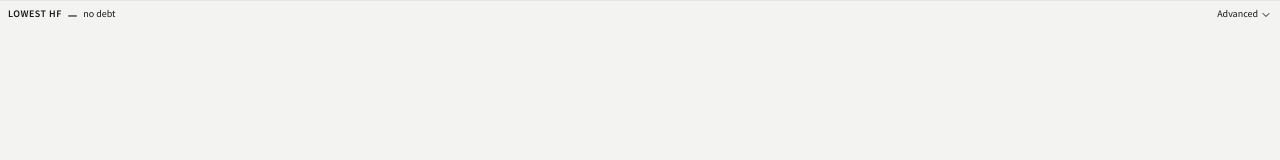
Test case: PortfolioSummaryBar — Advanced section typography (AAV-1304) › Borrow capacity values use font-bold like the other summary values (E6)
What coordinates should you click on to do the following:
click the button with test id "portfolio-advanced-toggle"
I would click on:
 (1245, 15)
Its box is [1217, 8, 1272, 21].
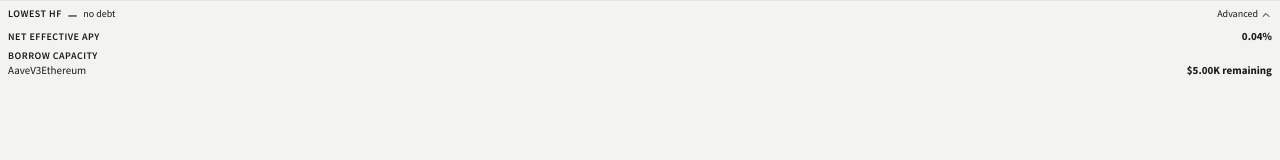
Expected: the text "$5.00K remaining" is shown, [1187, 64, 1272, 78]
